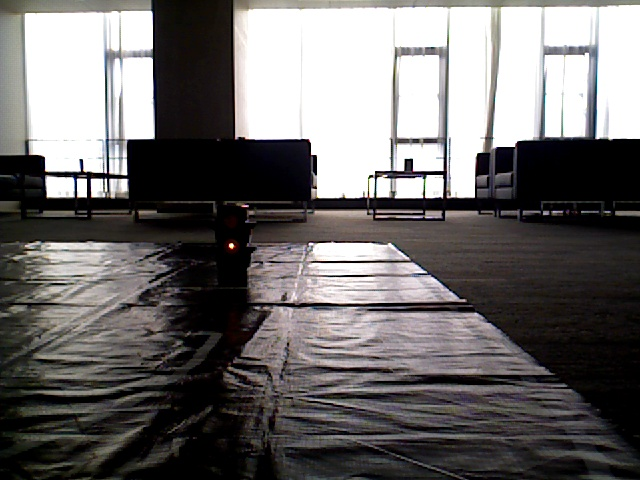yellow: (217, 211, 246, 288)
